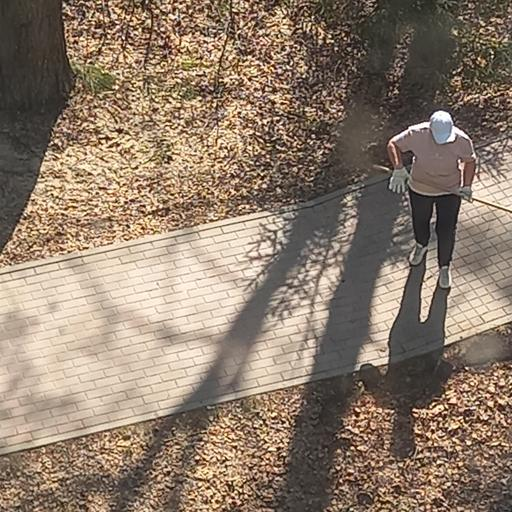Humans: (380, 103, 470, 294)
